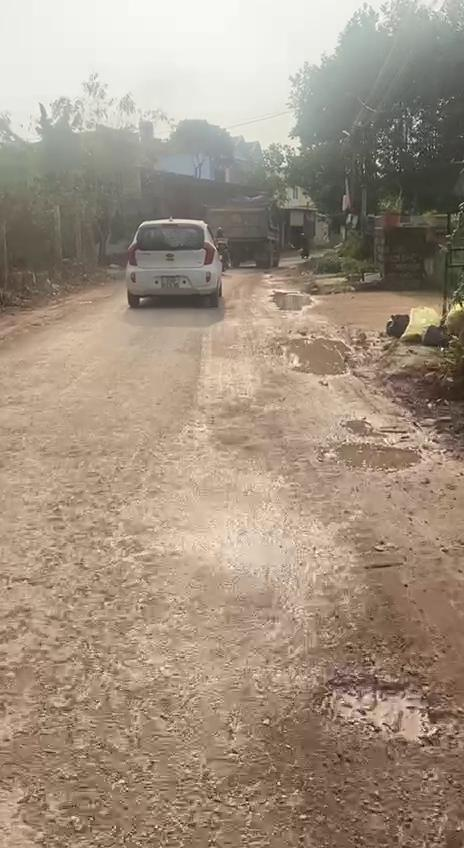pothole: (314, 666, 457, 760), (322, 435, 426, 478), (276, 333, 354, 380), (275, 288, 315, 316)
